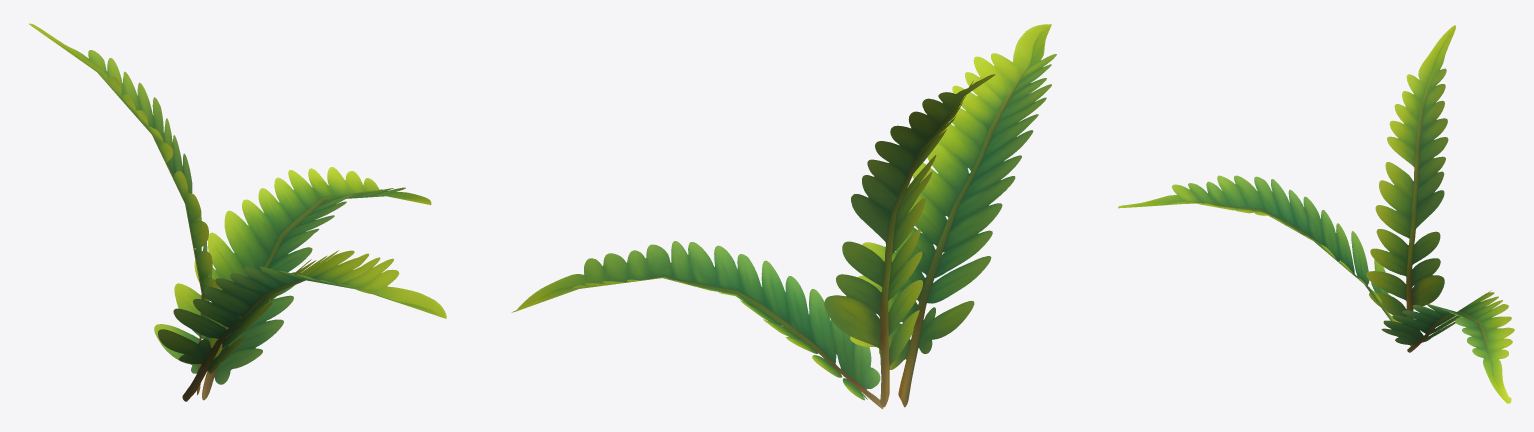
3 renders of one model, left to right at view 1: azimuth 30°, elevation 25°; view 2: azimuth 150°, elevation 25°; view 3: azimuth 270°, elevation 25°, orthographic. The views are drawn at different scales.
Parts seen in each view (by area): view 1: pl-fern-sword; view 2: pl-fern-sword; view 3: pl-fern-sword.
Part boxes in pixels (<box>): pl-fern-sword: <box>29,23,446,401</box>; pl-fern-sword: <box>511,24,1056,409</box>; pl-fern-sword: <box>1118,25,1514,403</box>.
Size of the model in its own units: 1.76 by 1.44 by 1.9.
Materials: 1 (1 with a texture image).
